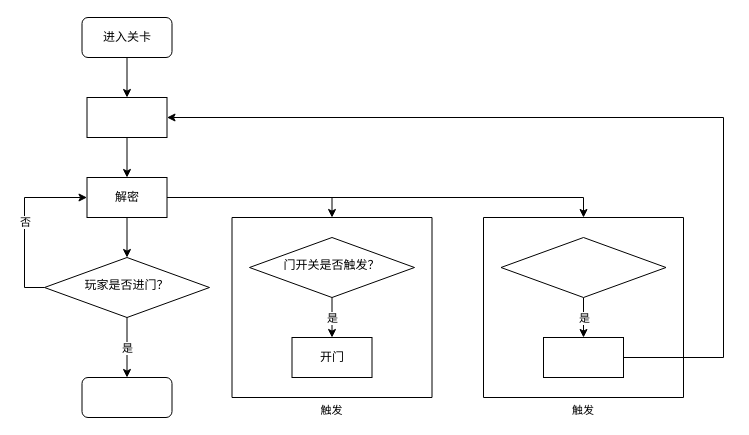
Some shapes in this 749 by 435 pixel diagram are drawn without their labels. The box of each missing label's shape, as (x1, y1, x2, y2) in pixels:
保存: (86, 96, 167, 138)
死亡: (542, 336, 624, 378)
玩家生命值<=0？: (500, 236, 666, 298)
进入下一关: (81, 376, 172, 418)
